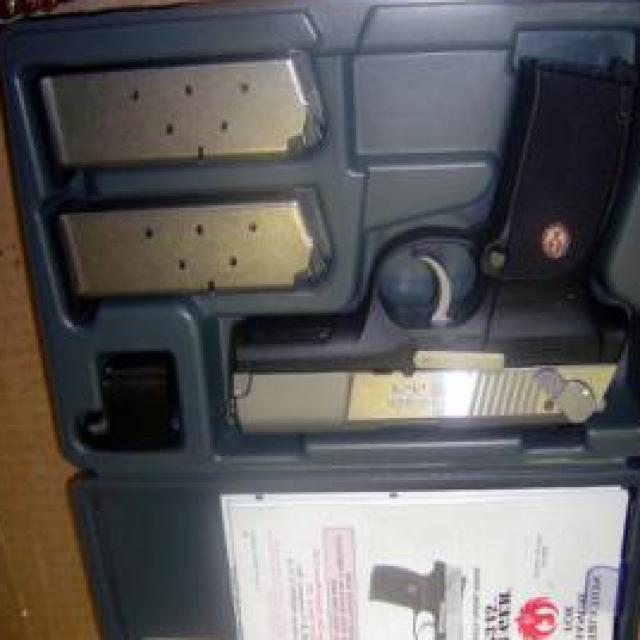pistol: (231, 55, 640, 445)
